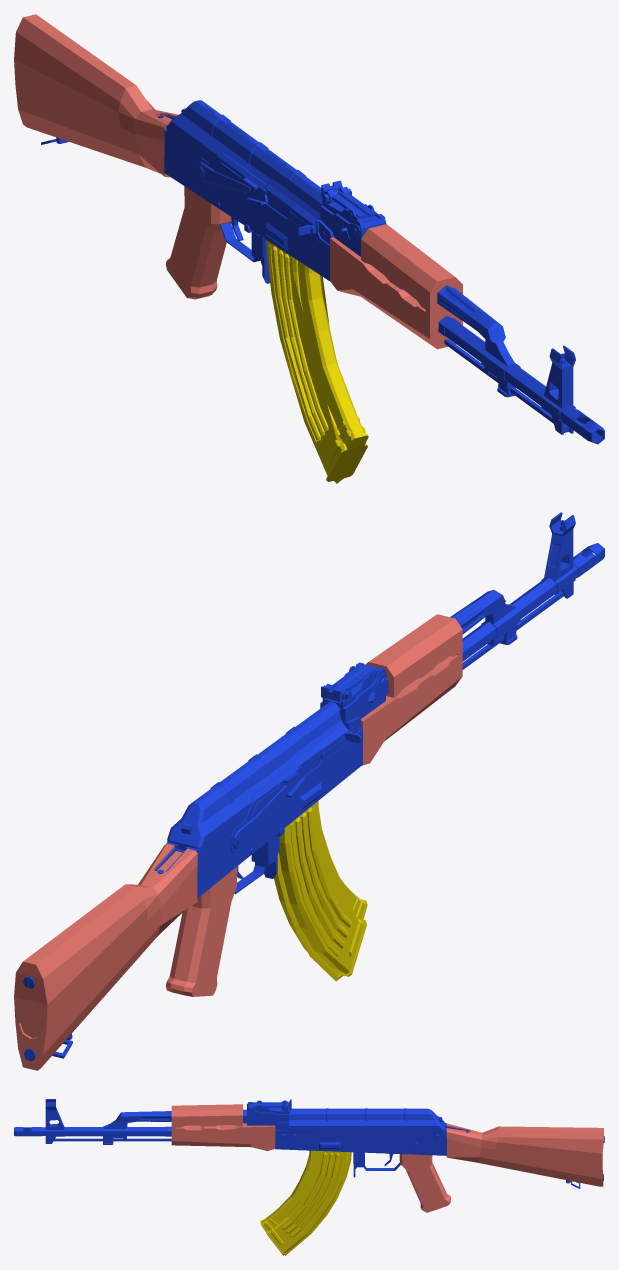
Rendered from Weapons_AK47_TPS.fbx.
3 renders of one model, top to bottom at view 1: azimuth 30°, elevation 25°; view 2: azimuth 150°, elevation 25°; view 3: azimuth 270°, elevation 25°, orthographic. The views are drawn at different scales.
Parts seen in each view (by area): view 1: Body, Magazine; view 2: Body, Magazine; view 3: Body, Magazine.
Boxes of the visible parts, left/top/right/bottom form: Body: left=14, top=14, right=604, bottom=444; Magazine: left=266, top=240, right=368, bottom=483; Body: left=14, top=512, right=604, bottom=1070; Magazine: left=274, top=801, right=367, bottom=981; Body: left=14, top=1099, right=604, bottom=1212; Magazine: left=260, top=1150, right=351, bottom=1255.
Bounding box in the file's own units: 11.39 × 64.38 × 223.
